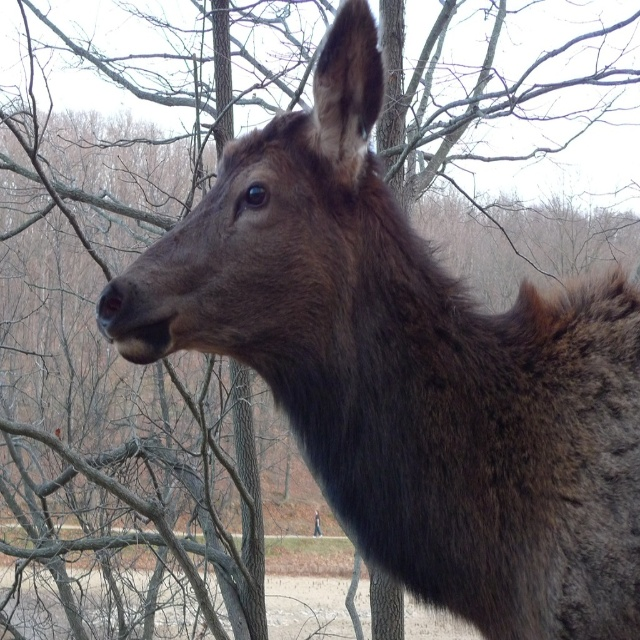Deer: (99, 0, 638, 639)
